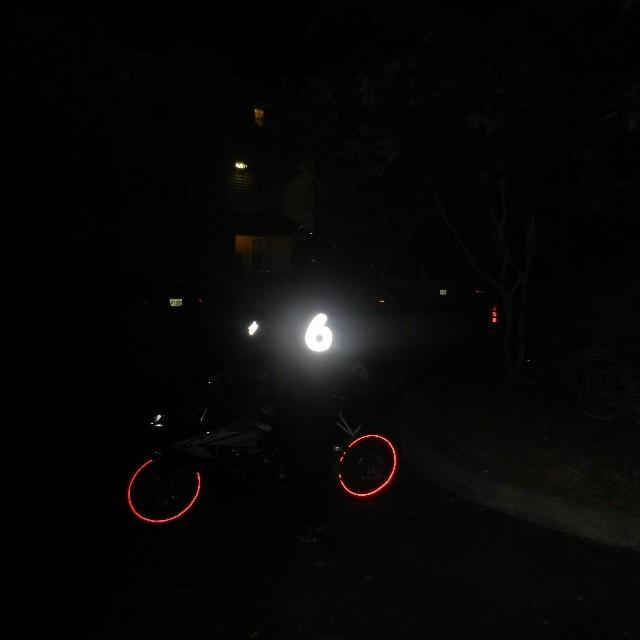Motorbike: (133, 328, 454, 525)
